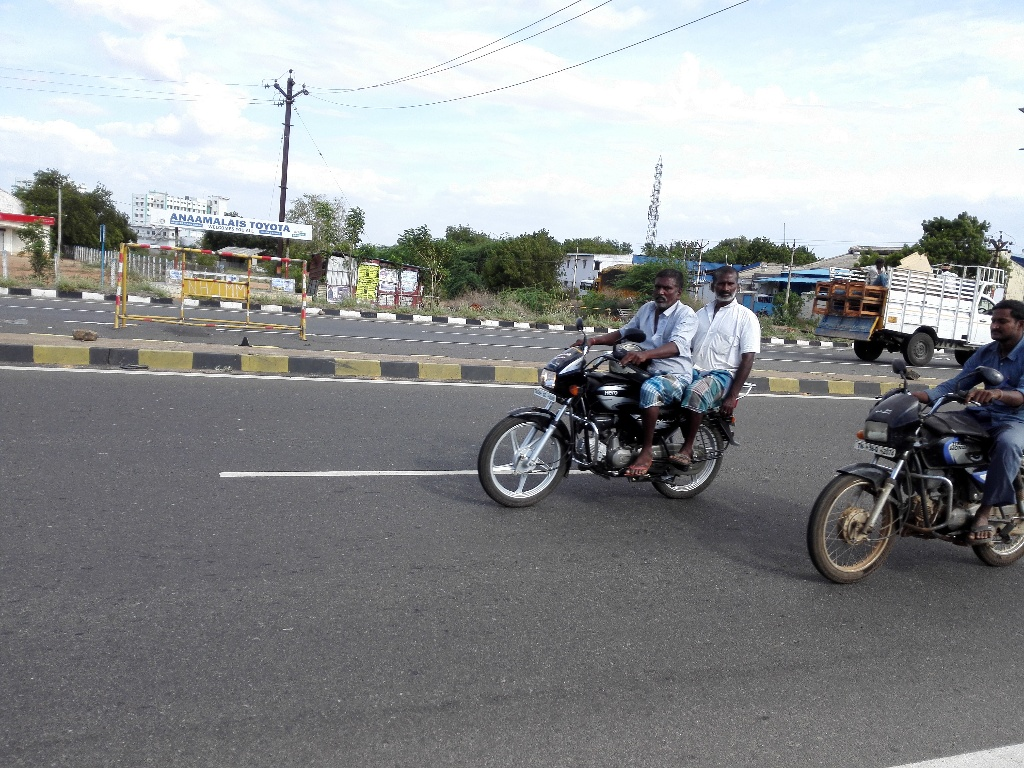biker: (452, 231, 785, 526), (797, 242, 1024, 597)
nohelmet: (706, 258, 751, 316), (985, 291, 1024, 357), (647, 265, 690, 320)
